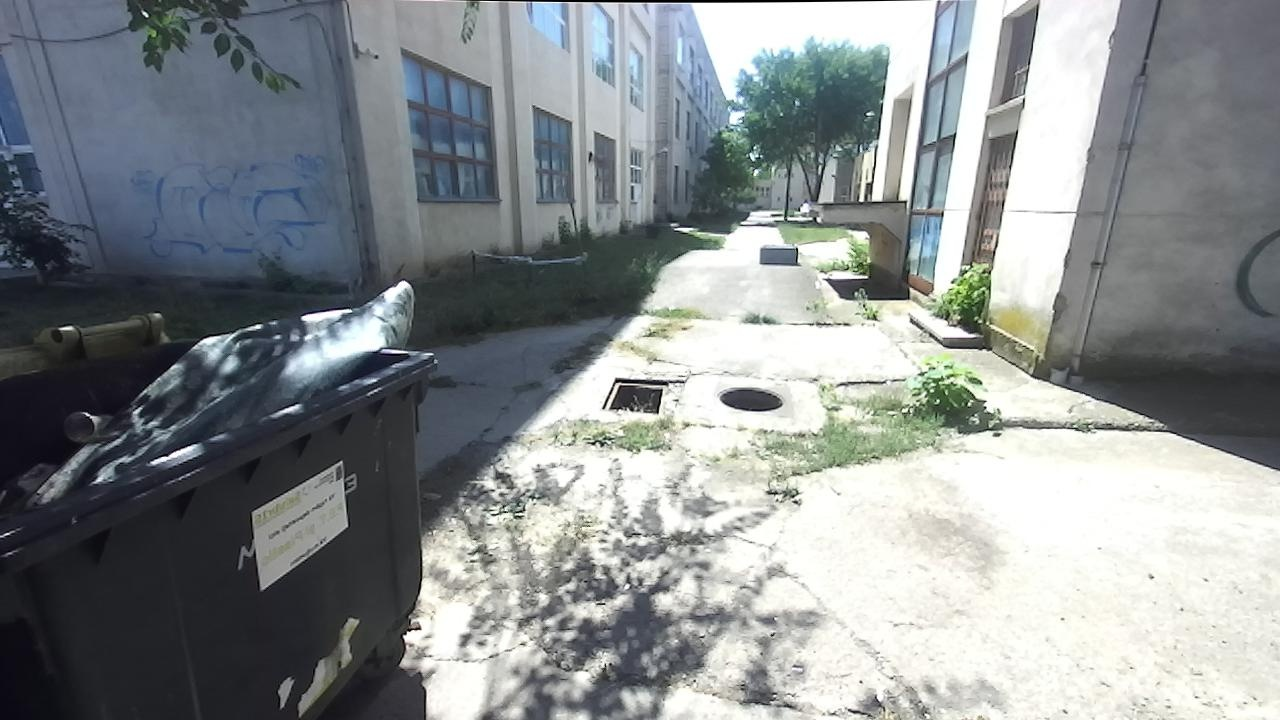drain: (597, 376, 672, 418), (710, 382, 783, 413)
